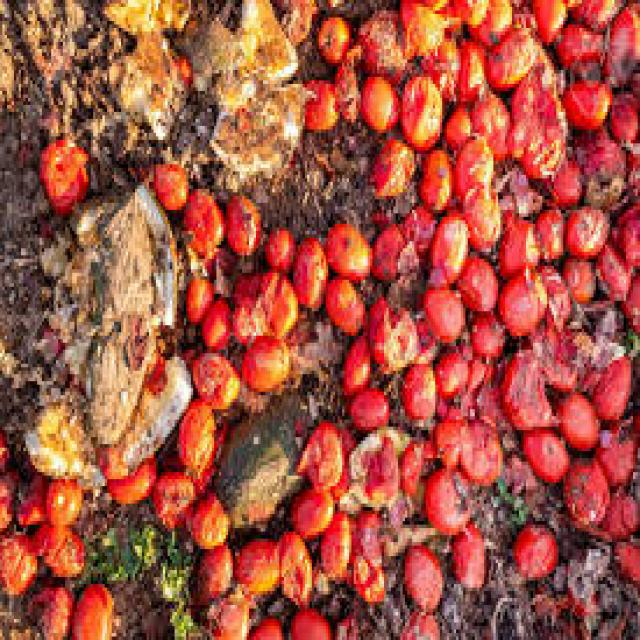organic waste: (49, 185, 177, 441), (214, 406, 300, 524), (207, 77, 307, 168), (114, 346, 186, 465), (23, 395, 100, 493), (502, 63, 566, 178), (214, 0, 293, 84), (153, 524, 210, 636), (230, 0, 295, 80), (340, 427, 405, 507), (88, 514, 160, 584), (496, 342, 554, 427), (174, 398, 223, 489), (363, 290, 417, 364), (496, 262, 547, 340), (521, 311, 575, 381), (570, 122, 626, 189), (252, 266, 300, 343), (356, 3, 405, 77), (37, 133, 84, 210), (456, 409, 503, 486), (191, 10, 244, 77), (100, 0, 193, 38), (514, 423, 570, 486), (349, 507, 386, 602), (472, 370, 516, 448), (493, 203, 540, 276), (149, 458, 200, 525), (582, 346, 628, 420), (561, 451, 607, 525), (531, 556, 591, 612), (563, 59, 610, 130), (423, 203, 468, 276), (398, 70, 440, 147), (272, 521, 310, 605), (180, 185, 223, 259), (594, 412, 638, 482), (188, 343, 240, 402), (602, 0, 638, 84), (458, 182, 501, 252), (486, 24, 533, 88), (421, 465, 468, 528), (296, 416, 338, 486), (286, 231, 326, 304), (370, 136, 414, 200), (186, 539, 233, 598), (452, 130, 491, 200), (447, 514, 486, 584), (512, 518, 556, 580), (580, 297, 628, 353), (550, 17, 600, 70), (242, 332, 286, 392), (23, 580, 70, 636), (330, 42, 366, 115), (468, 87, 507, 154), (394, 426, 431, 496), (403, 539, 442, 605), (317, 504, 349, 584), (416, 31, 454, 98), (377, 514, 442, 553), (398, 0, 454, 45), (221, 192, 263, 252), (323, 217, 368, 273), (235, 535, 277, 595), (396, 199, 438, 259), (558, 200, 610, 248), (552, 388, 596, 444), (67, 580, 111, 636), (205, 580, 249, 636), (368, 217, 407, 280), (396, 4, 440, 59), (493, 451, 542, 500), (598, 479, 638, 539), (33, 525, 79, 577), (456, 252, 498, 308), (605, 74, 638, 144), (456, 28, 489, 98), (538, 255, 572, 322), (100, 454, 154, 496), (612, 192, 638, 276), (463, 301, 505, 353), (396, 360, 435, 416), (286, 486, 333, 532), (358, 70, 398, 122), (0, 532, 37, 588), (326, 276, 363, 332), (421, 287, 461, 336), (591, 238, 624, 297), (468, 0, 507, 49), (316, 10, 352, 63), (556, 248, 594, 298), (565, 0, 626, 31), (298, 74, 337, 122), (533, 200, 563, 262), (186, 493, 226, 539), (430, 413, 461, 472), (42, 472, 79, 521), (12, 465, 42, 525), (284, 598, 330, 637), (154, 157, 186, 210), (440, 94, 470, 150), (342, 332, 370, 392), (347, 381, 386, 423), (614, 270, 638, 332), (277, 0, 312, 42), (198, 294, 228, 343), (230, 266, 254, 325), (528, 0, 565, 38), (544, 154, 575, 199), (181, 273, 212, 318), (396, 605, 438, 637), (612, 532, 638, 580), (333, 605, 372, 637), (412, 308, 437, 357), (244, 608, 286, 636), (463, 346, 491, 388), (203, 245, 235, 276), (258, 227, 289, 259), (0, 465, 14, 532), (95, 444, 128, 469), (172, 45, 189, 84), (456, 0, 487, 21), (512, 0, 535, 28), (365, 203, 391, 224), (0, 426, 5, 468)
